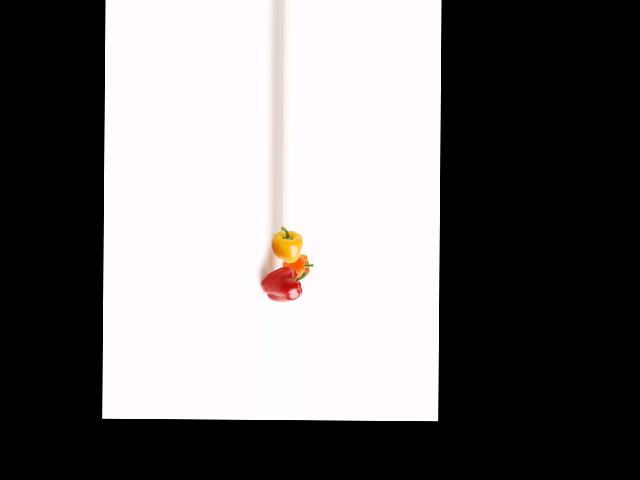bell_pepper: (257, 264, 311, 303)
